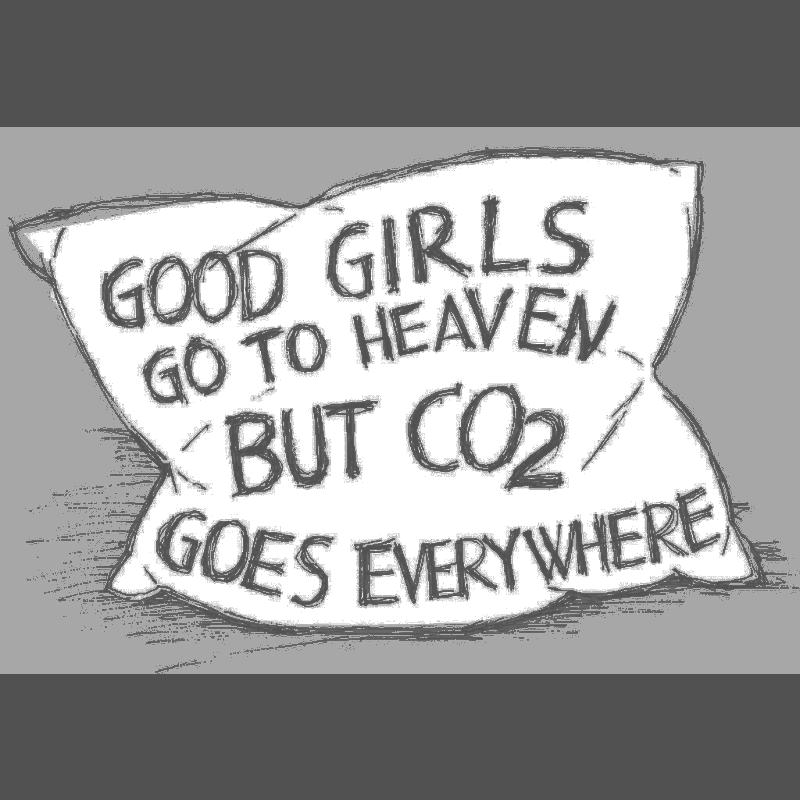pillow: (81, 139, 718, 647)
